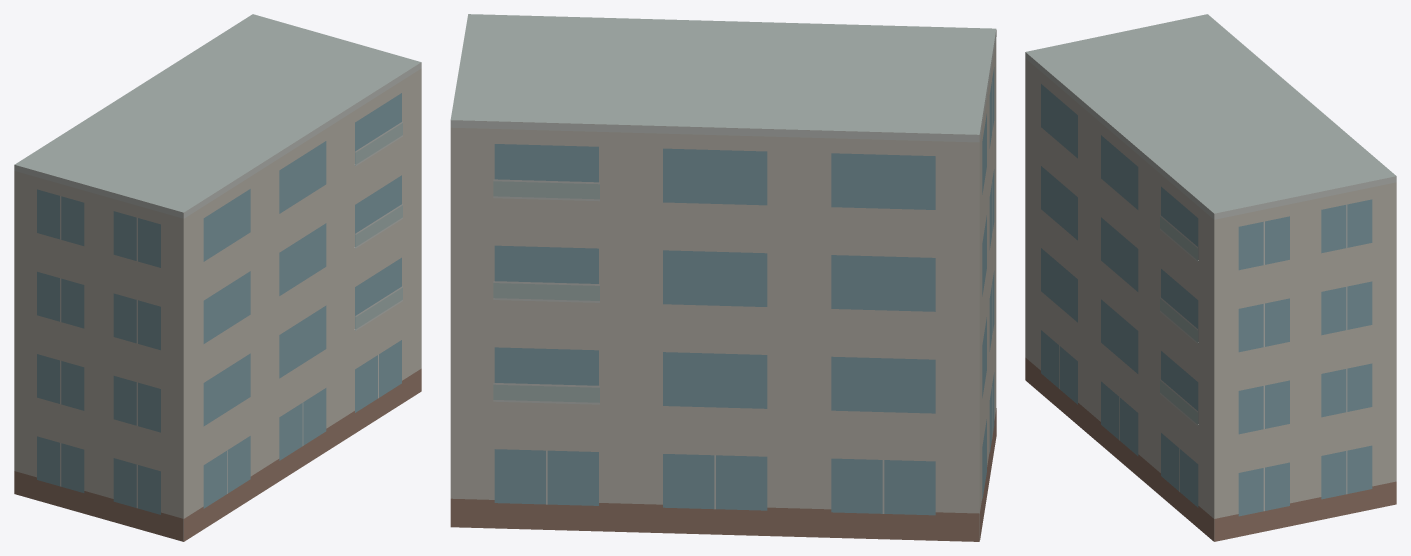
Rendered from survey-upis-32841256.glb.
3 views of the same model, side by side, from view 1: azimuth 30°, elevation 25°; view 2: azimuth 150°, elevation 25°; view 3: azimuth 270°, elevation 25° (orthographic). The views are drawn at different scales.
Parts seen in each view (by area): view 1: survey-upis-32841256.tmp; view 2: survey-upis-32841256.tmp; view 3: survey-upis-32841256.tmp.
Boxes of the visible parts, x1=… form: survey-upis-32841256.tmp: x1=14, y1=14, x2=421, y2=541; survey-upis-32841256.tmp: x1=450, y1=14, x2=996, y2=541; survey-upis-32841256.tmp: x1=1025, y1=14, x2=1396, y2=541.
Size of the model in its own units: 16.97 by 13 by 13.34.
